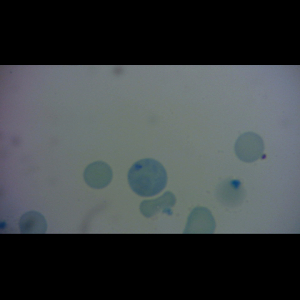erythrocyte: (139, 190, 178, 220), (233, 131, 267, 164), (214, 178, 248, 209), (82, 160, 114, 190)
punctate reticulocyte: (127, 158, 167, 198)
